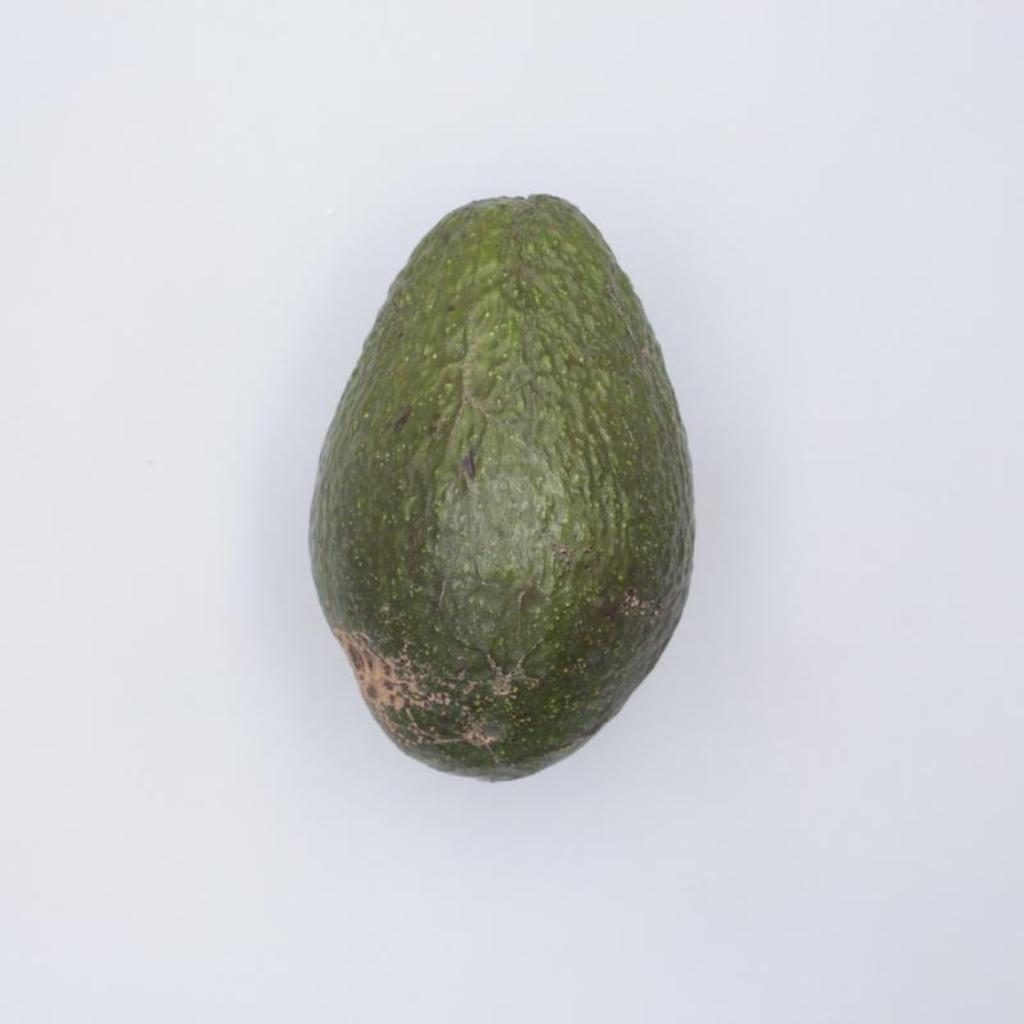scab: (310, 196, 694, 777)
